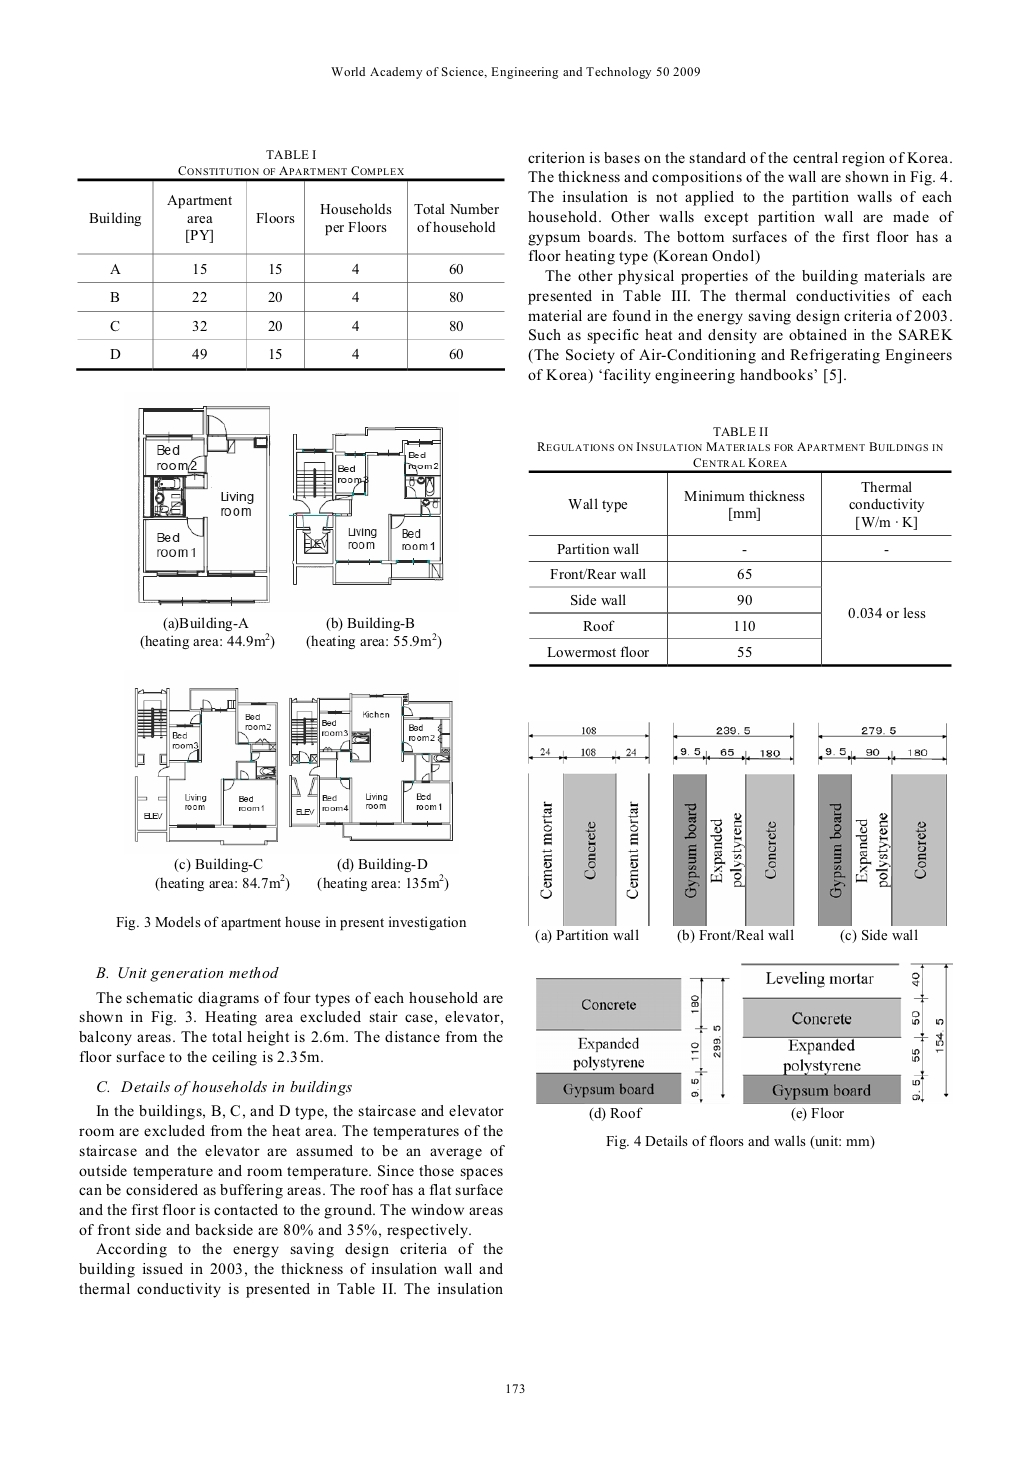Table: (76, 165, 504, 371), (528, 469, 950, 668)
figure: (740, 963, 952, 1120), (536, 977, 729, 1120), (138, 406, 270, 605), (818, 722, 946, 925), (528, 722, 649, 925), (673, 722, 794, 925), (289, 428, 443, 584), (289, 693, 452, 839), (134, 688, 277, 845)
